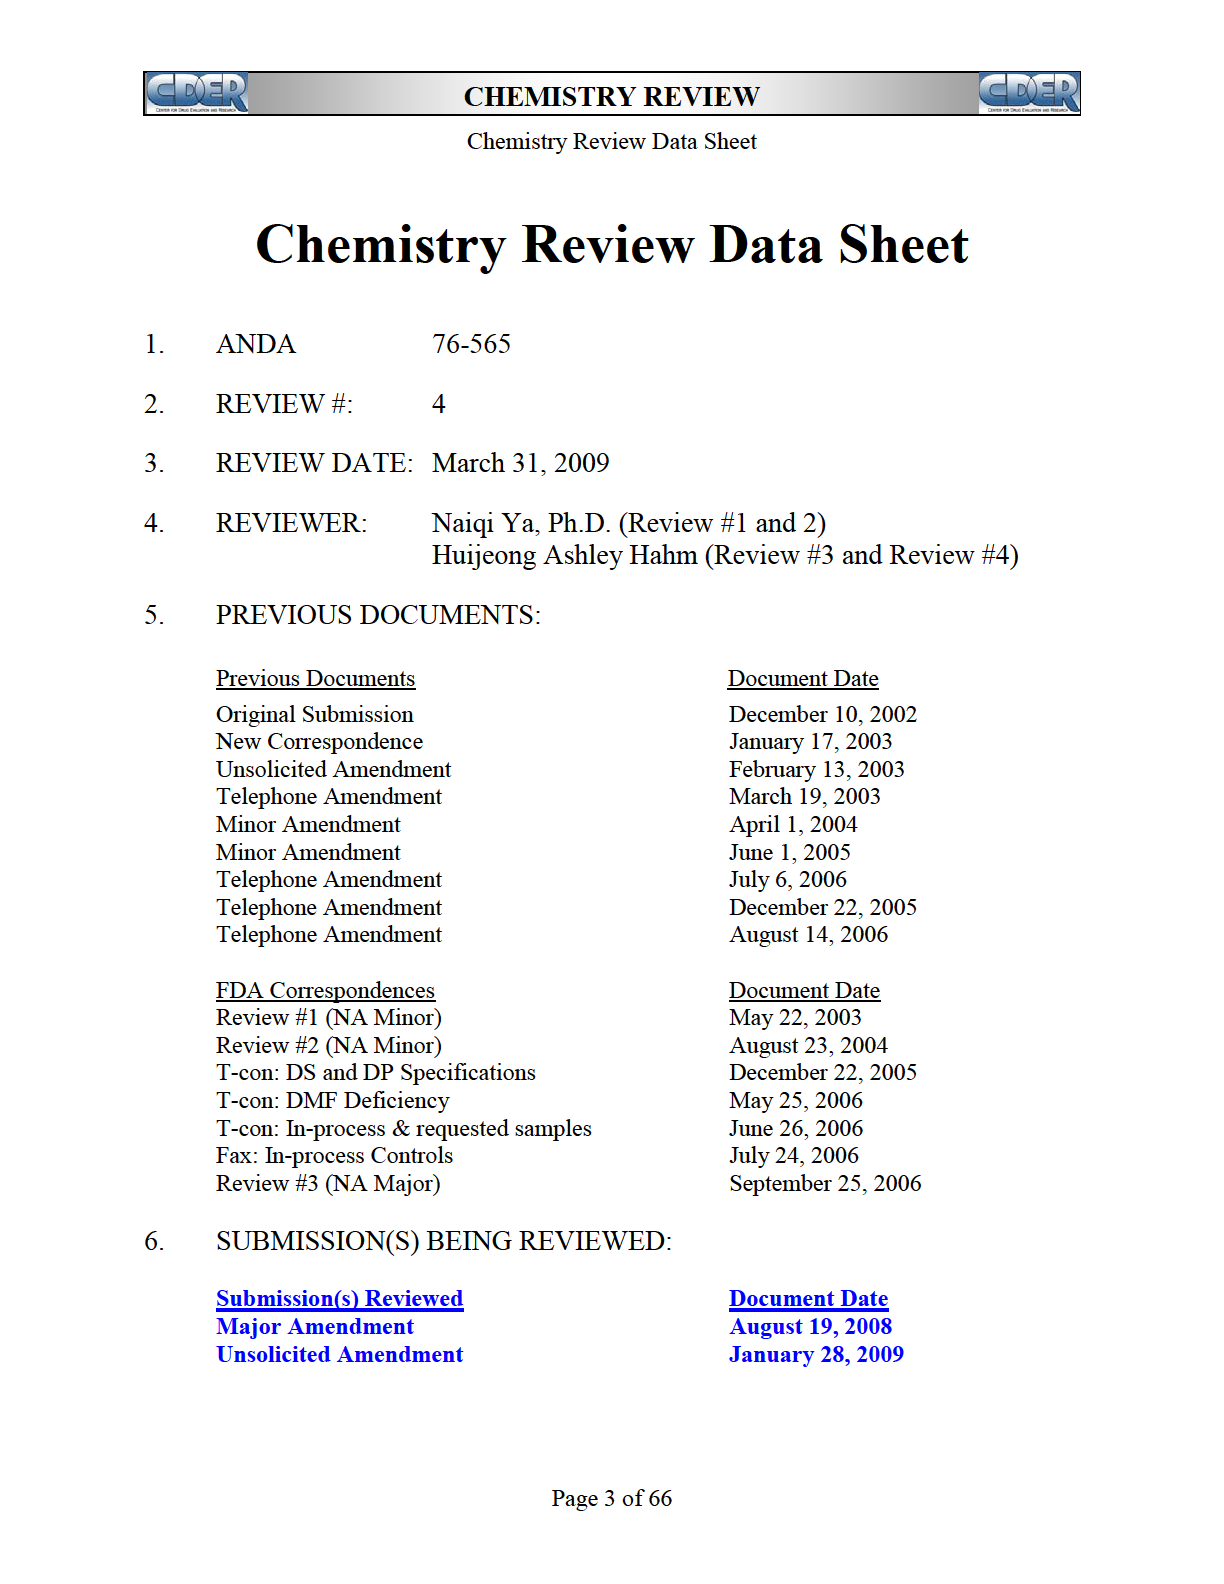nolines: (215, 665, 923, 1196), (141, 327, 1023, 631)
